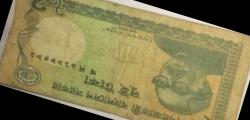2 taka: (8, 1, 242, 119)
